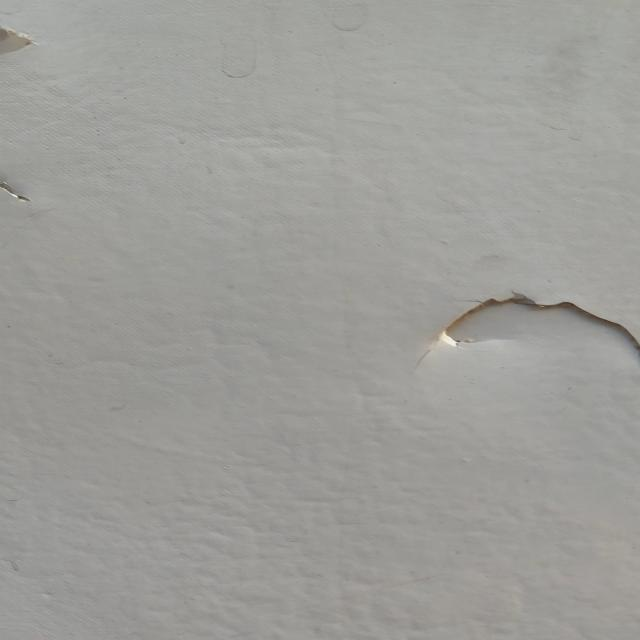Scratches: (429, 284, 640, 375), (1, 16, 68, 66), (1, 171, 37, 218)
